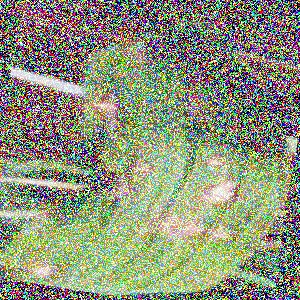Brown_Spot: (84, 163, 153, 212), (138, 206, 207, 249), (0, 247, 60, 290), (159, 85, 210, 134), (197, 170, 247, 215), (90, 86, 126, 136), (208, 211, 251, 250), (20, 199, 67, 233), (130, 156, 171, 189), (129, 125, 172, 156), (196, 149, 243, 174), (174, 57, 207, 92), (223, 116, 257, 146)
